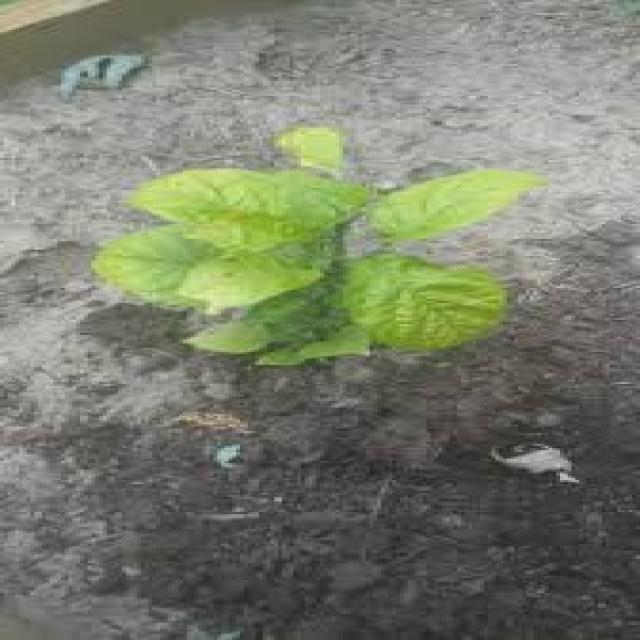Rust: (123, 128, 543, 357)
